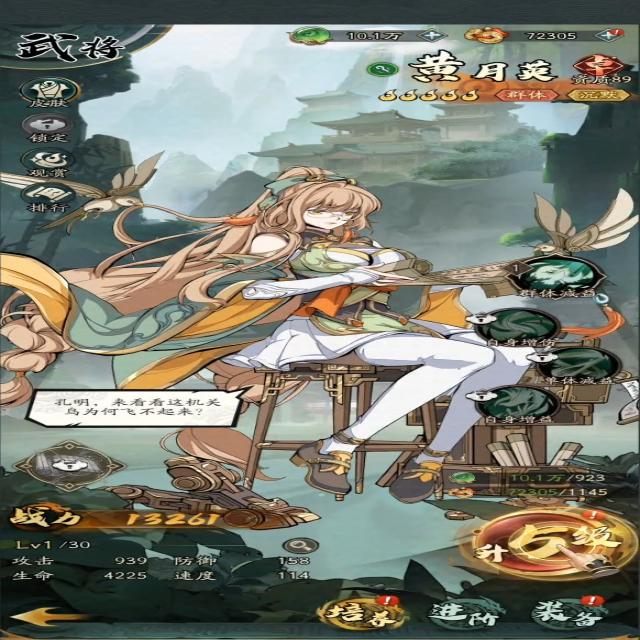hint-guide: (528, 527, 626, 581)
hint-reddot: (582, 506, 609, 523), (374, 595, 401, 608), (583, 595, 606, 609), (605, 26, 627, 36)
operation-advanced: (430, 596, 502, 632)
operation-back: (7, 601, 92, 632)
operation-equipment: (529, 593, 608, 630)
operation-levelUp: (471, 508, 634, 578)
operation-train: (319, 595, 406, 633)
skill-multi1-off: (524, 346, 632, 387)
skill-multi2-off: (461, 304, 567, 350)
skill-multi3-on: (500, 250, 607, 302)
